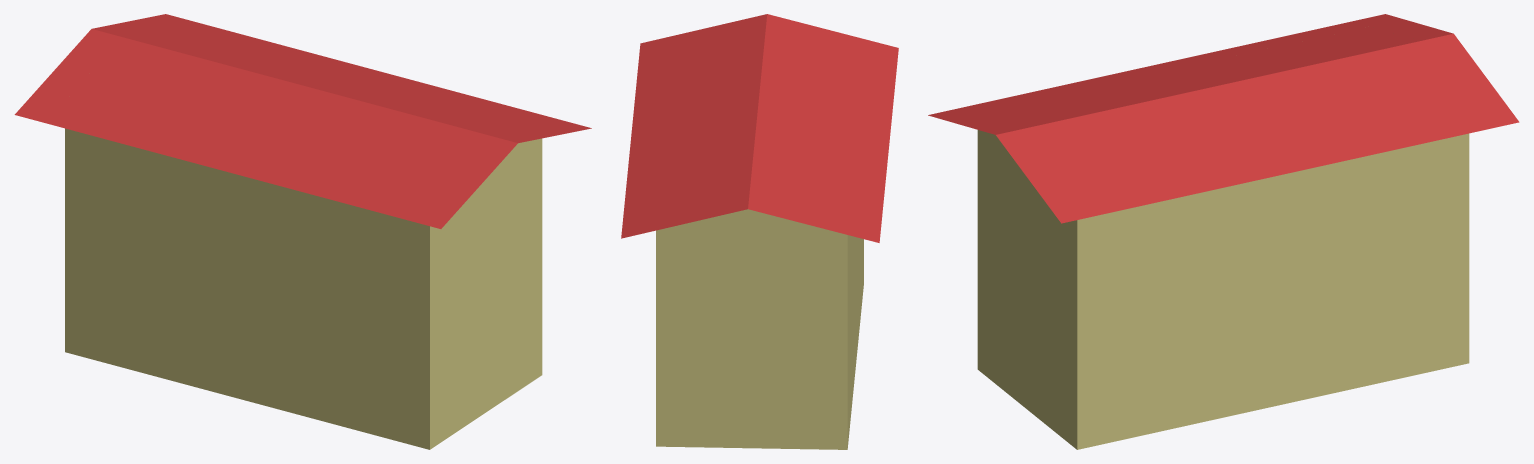
3 views of the same model, side by side, from view 1: azimuth 30°, elevation 25°; view 2: azimuth 150°, elevation 25°; view 3: azimuth 270°, elevation 25° (orthographic). The views are drawn at different scales.
Bounding box in the file's own units: 9.95 × 11.89 × 6.27.
